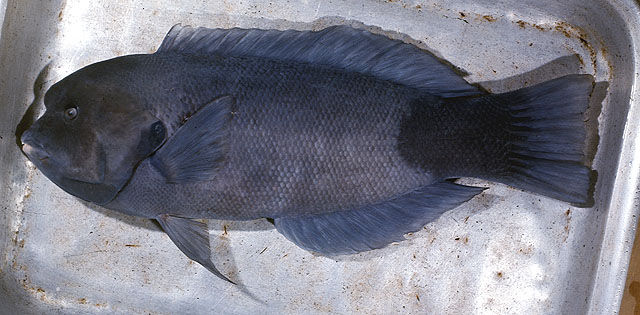fish: (20, 22, 595, 284)
